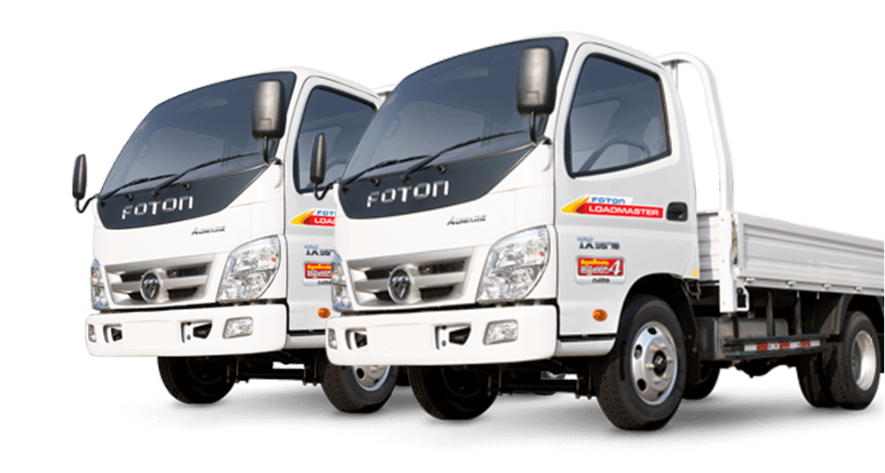truck: (311, 32, 885, 431), (72, 66, 400, 414)
